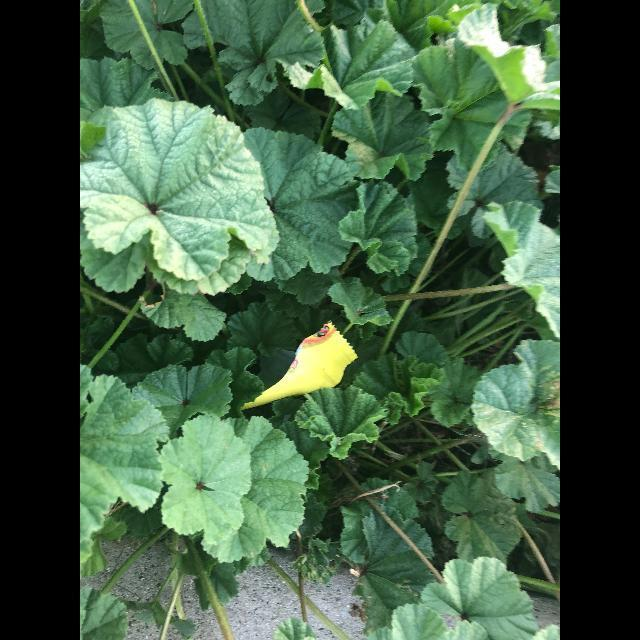Plastic: (236, 324, 360, 411)
